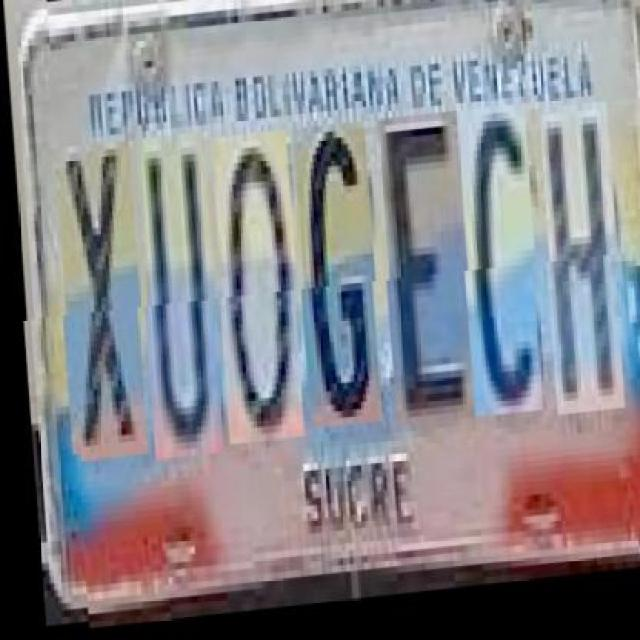c: (454, 115, 538, 427)
e: (376, 120, 472, 434)
g: (291, 130, 378, 435)
h: (536, 115, 621, 427)
o: (208, 136, 301, 450)
u: (133, 136, 219, 462)
x: (50, 142, 144, 462)
